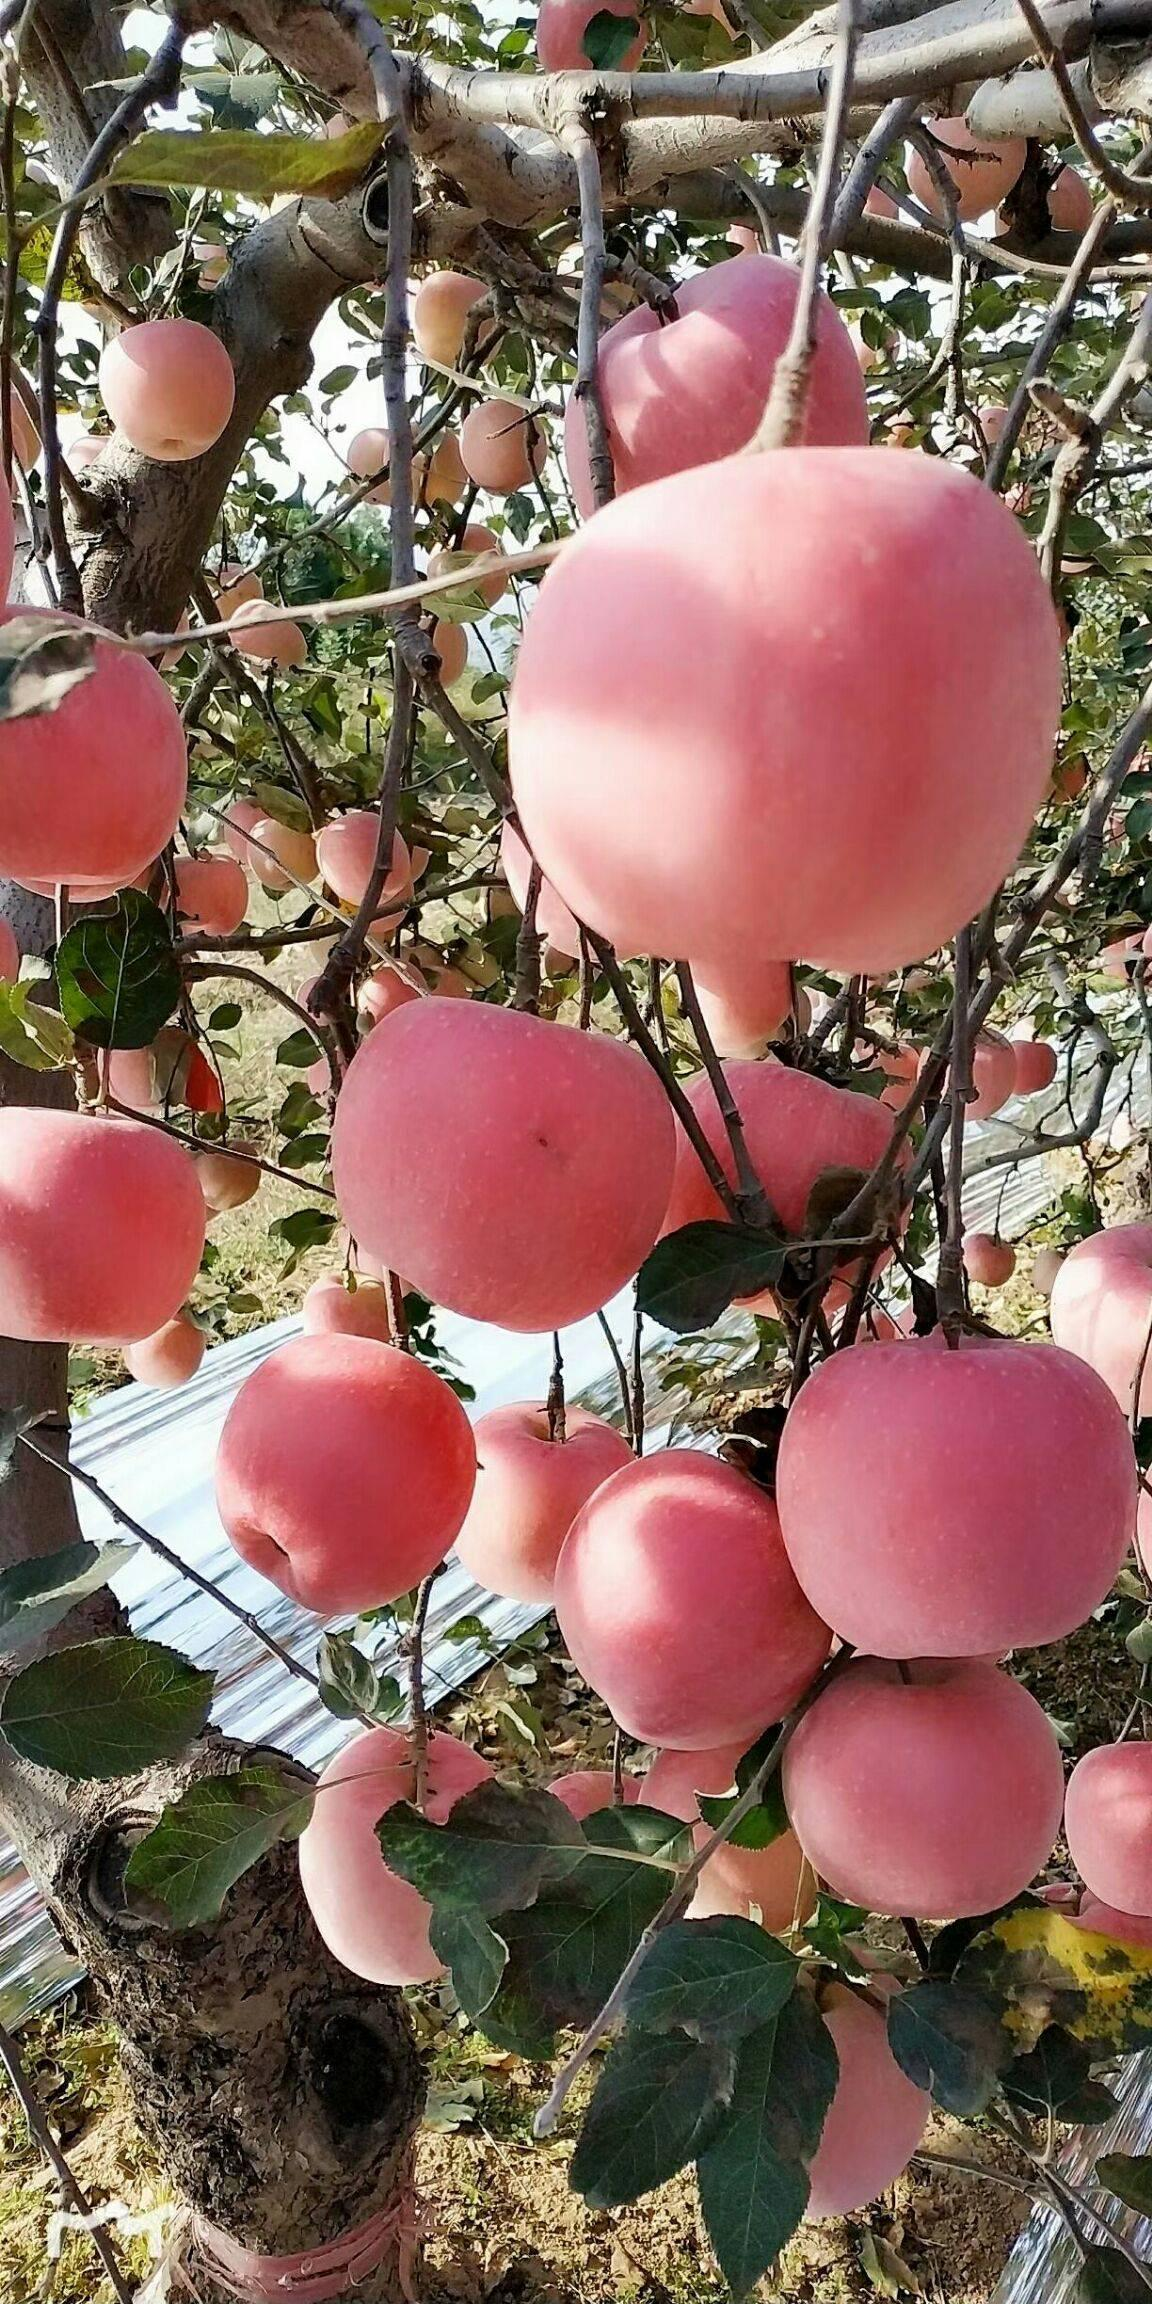apple: (500, 433, 1068, 990), (331, 990, 685, 1336), (785, 1318, 1139, 1663), (545, 1430, 824, 1749), (215, 1321, 476, 1630), (777, 1660, 1073, 1932), (785, 1655, 1068, 1923), (592, 262, 870, 503), (1, 1104, 212, 1343), (456, 1402, 644, 1612), (101, 320, 240, 466)
